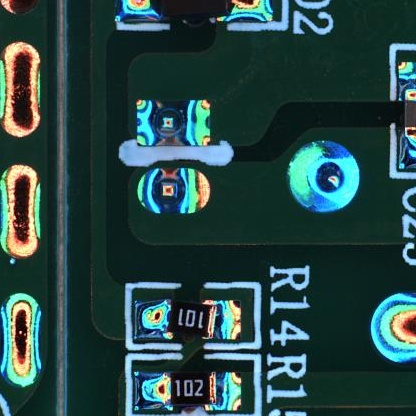spot: (284, 137, 362, 214), (134, 97, 211, 149), (137, 167, 211, 216), (371, 291, 416, 364)
